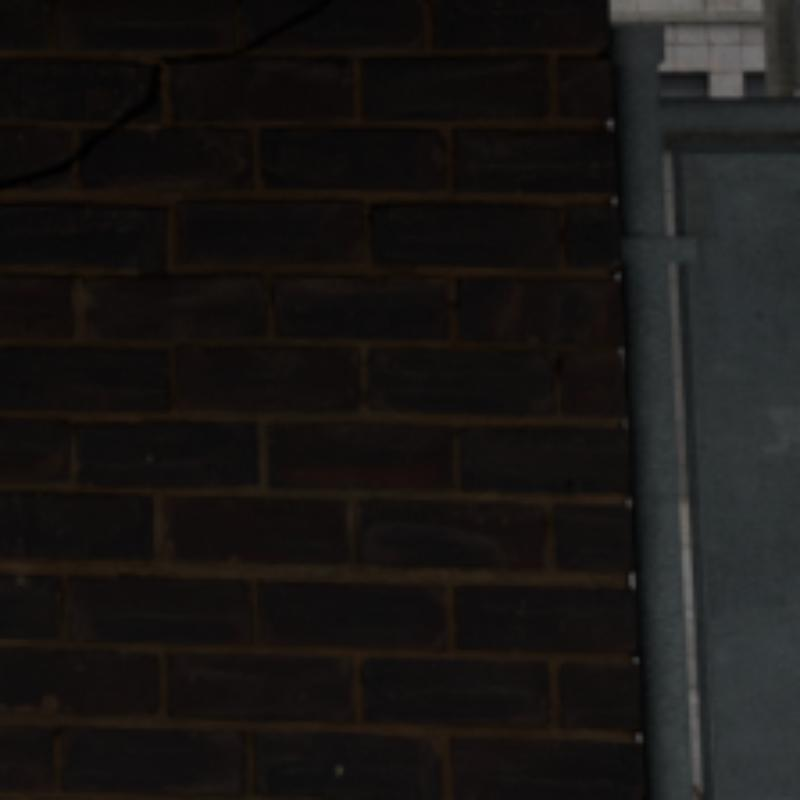pothole: (0, 0, 332, 186)
